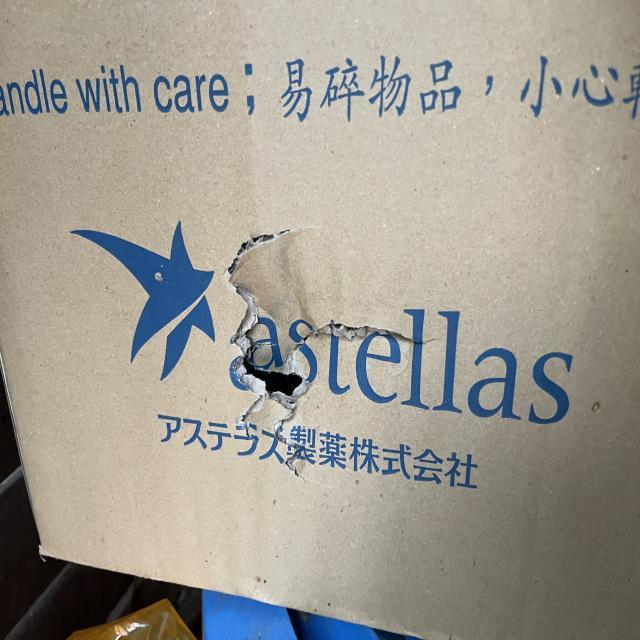hole: (226, 241, 312, 408)
